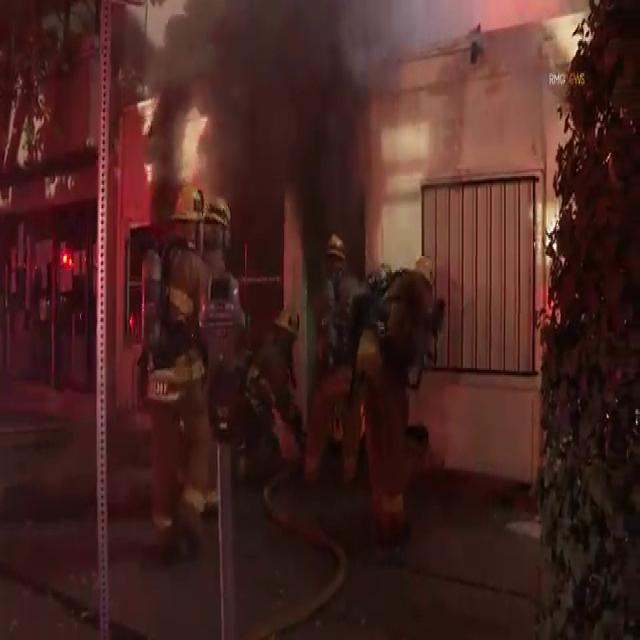Fire: (178, 98, 214, 181)
Smoke: (127, 0, 397, 192)
